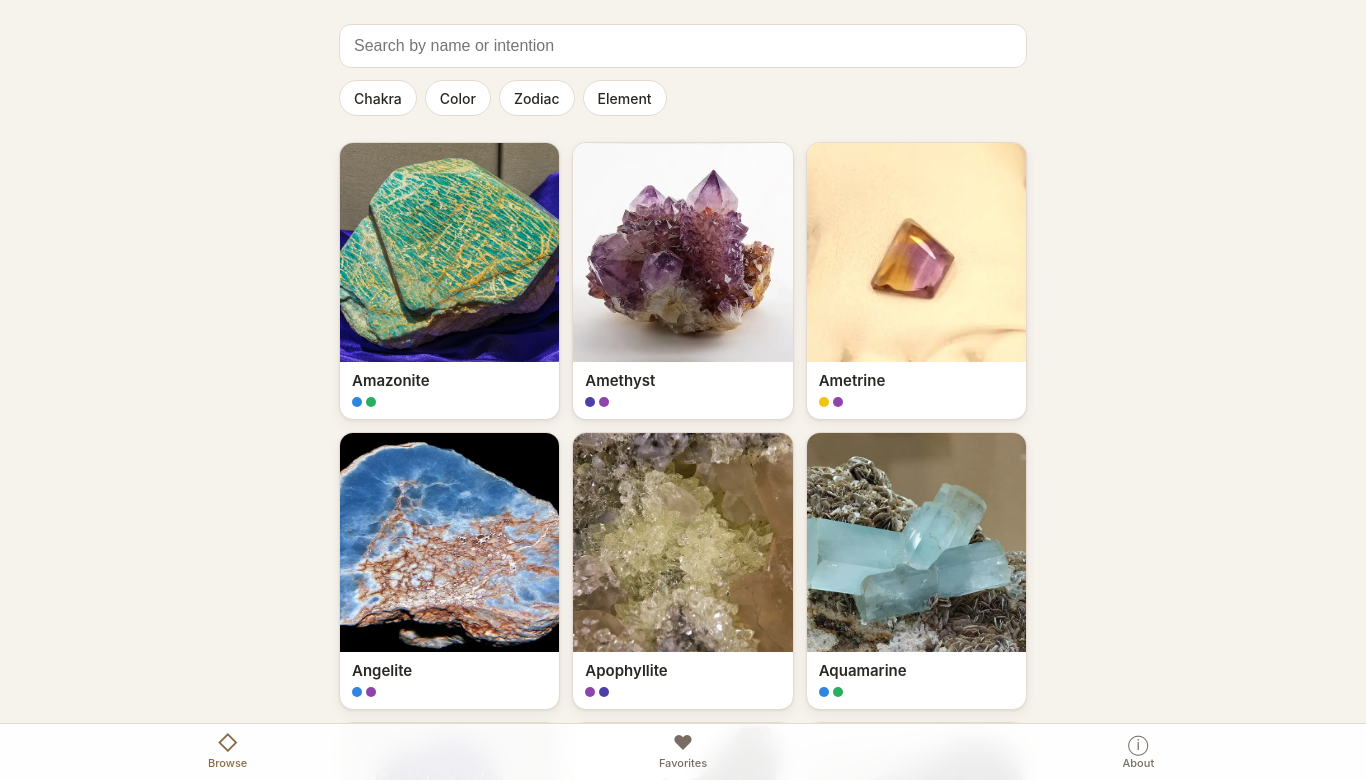
Test case: search and filters persist after opening a crystal and coming back
This screenshot has width=1366, height=780.
Type "quartz" into the search field named "Search crystals" at point(683, 46), box [339,24,1027,68]
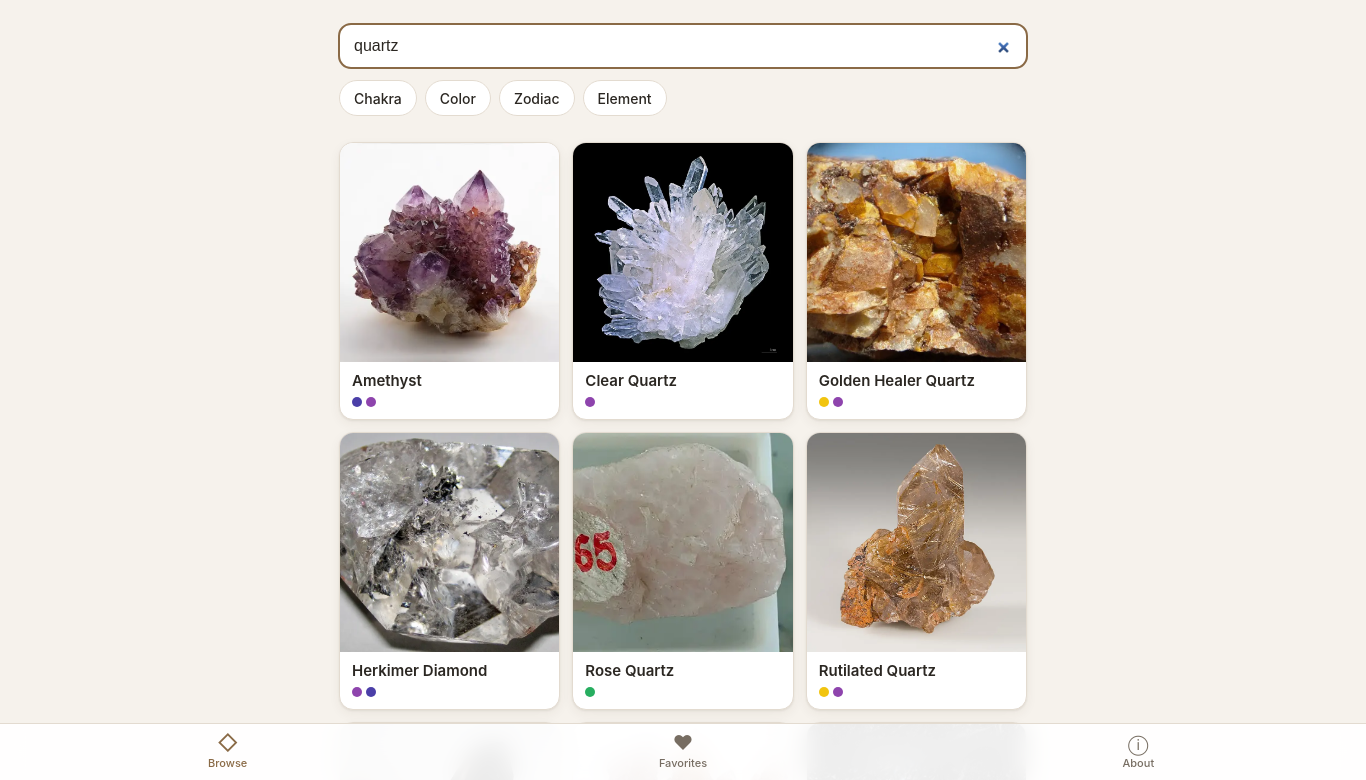
Click the link "Amethyst" at point(450, 281), box [339,142,560,420]
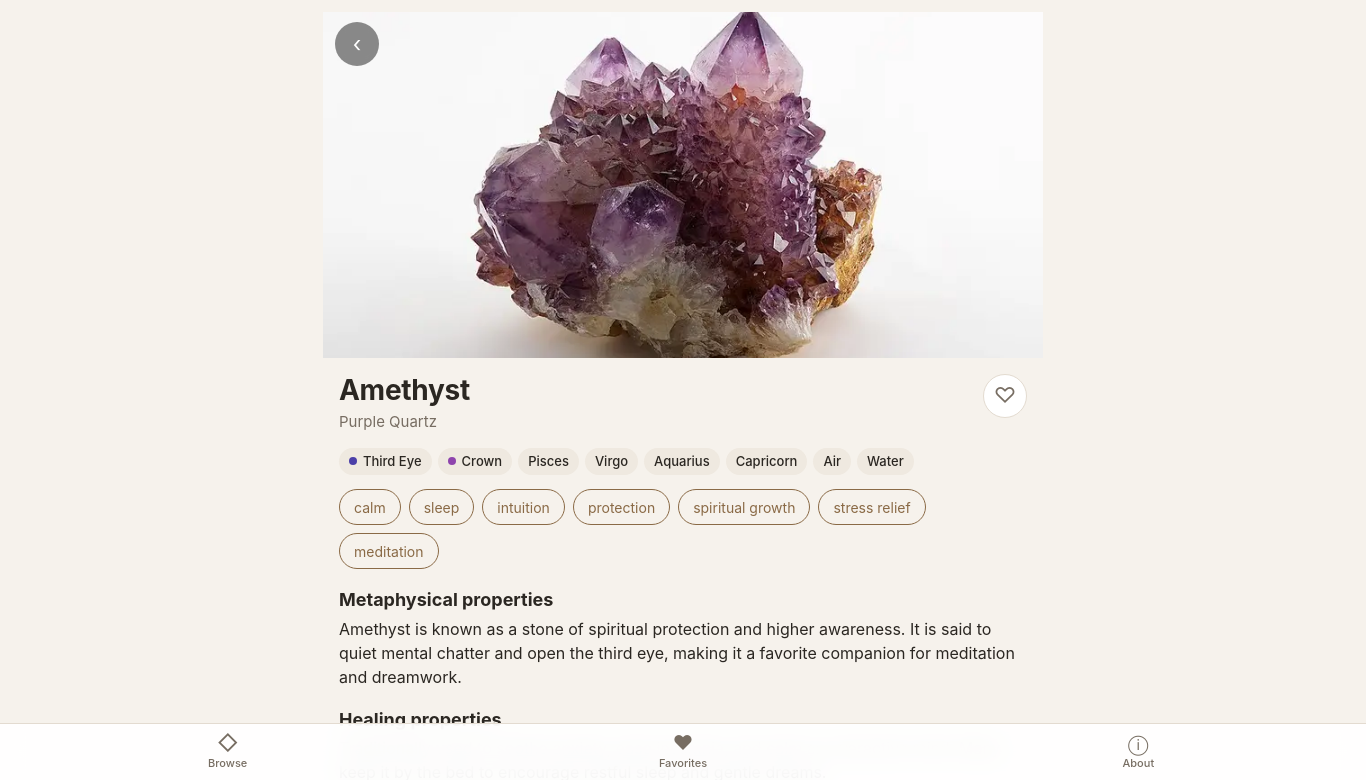
Click the link "◇ Browse" at point(228, 750), box [208,731,247,770]
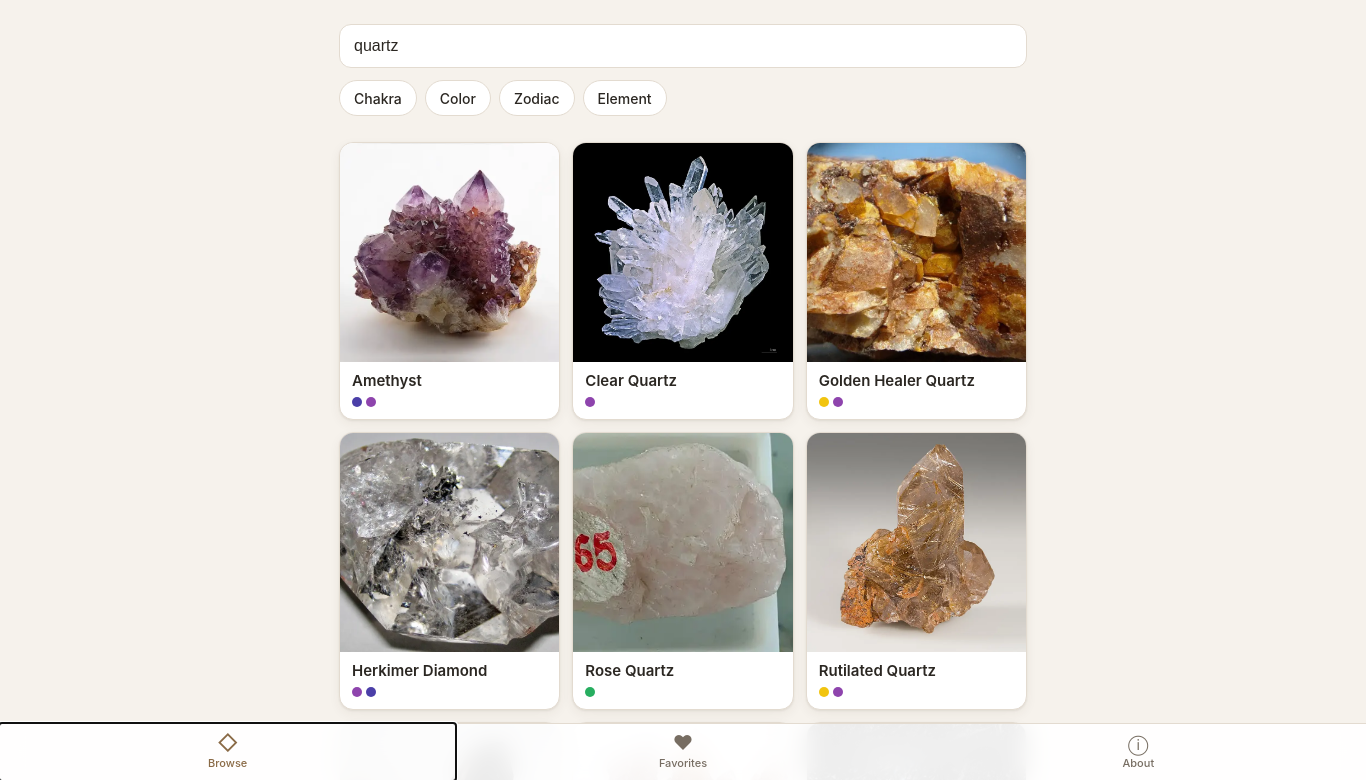
Check: the search field named "Search crystals" holds "quartz", box [339,24,1027,68]
